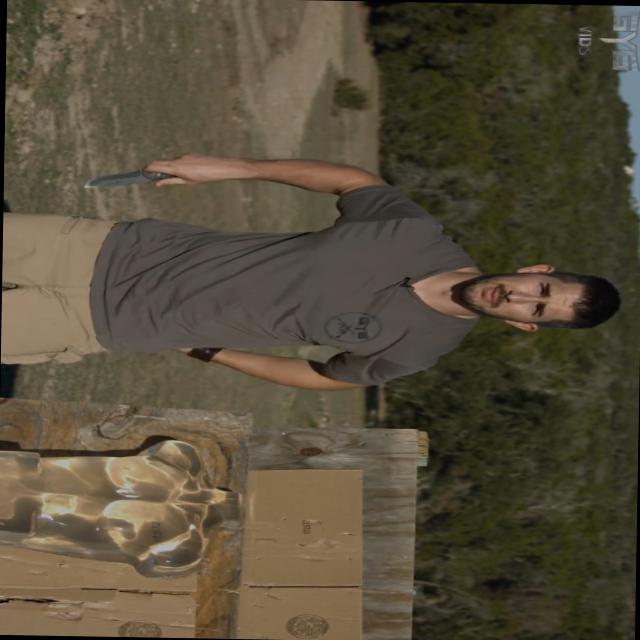knife: (68, 150, 210, 196)
